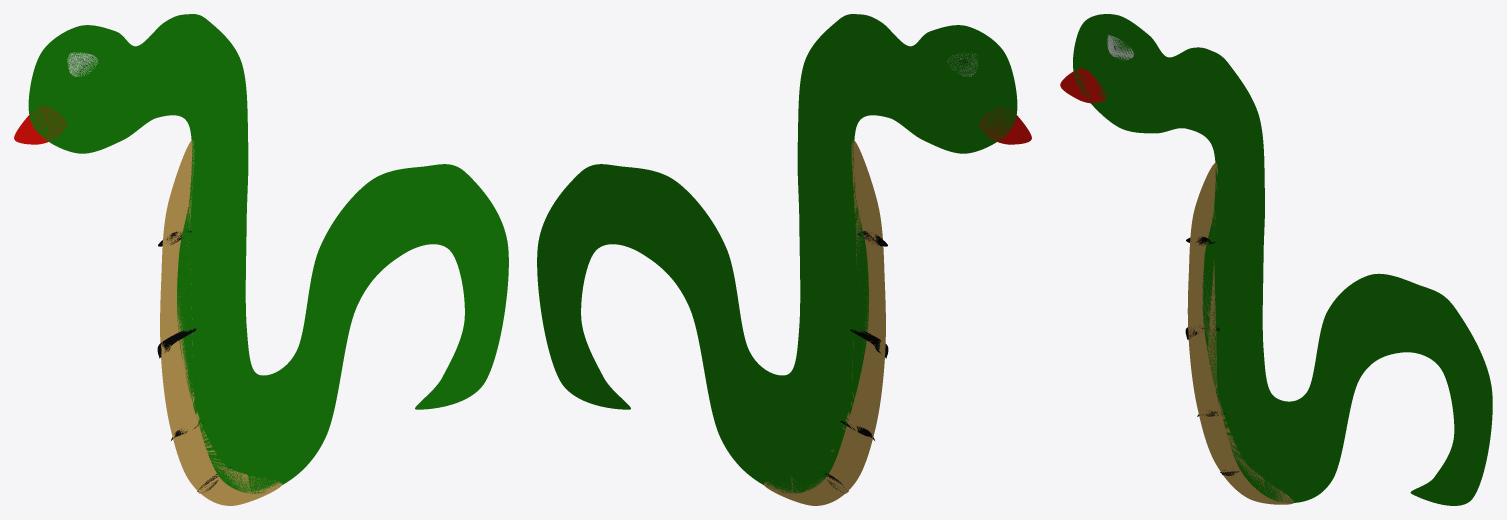
Rendered from serpente.obj.
3 renders of one model, left to right at view 1: azimuth 30°, elevation 25°; view 2: azimuth 150°, elevation 25°; view 3: azimuth 330°, elevation 25°, orthographic. The views are drawn at different scales.
Visible parts, largest first — view 1: Curva_1, Curva_4, Curva_3, Curva_2; view 2: Curva_1, Curva_4, Curva_3; view 3: Curva_1, Curva_4, Curva_3.
Part boxes in pixels (x1,y1,x2,y2): Curva_1: [28, 14, 508, 493]; Curva_4: [160, 140, 282, 505]; Curva_3: [14, 105, 66, 144]; Curva_2: [67, 52, 97, 76]; Curva_1: [537, 14, 1017, 493]; Curva_4: [764, 140, 885, 505]; Curva_3: [979, 106, 1031, 144]; Curva_1: [1073, 14, 1492, 505]; Curva_4: [1187, 163, 1294, 504]; Curva_3: [1060, 68, 1106, 103].
Size of the model in its own units: 1 by 1 by 0.
